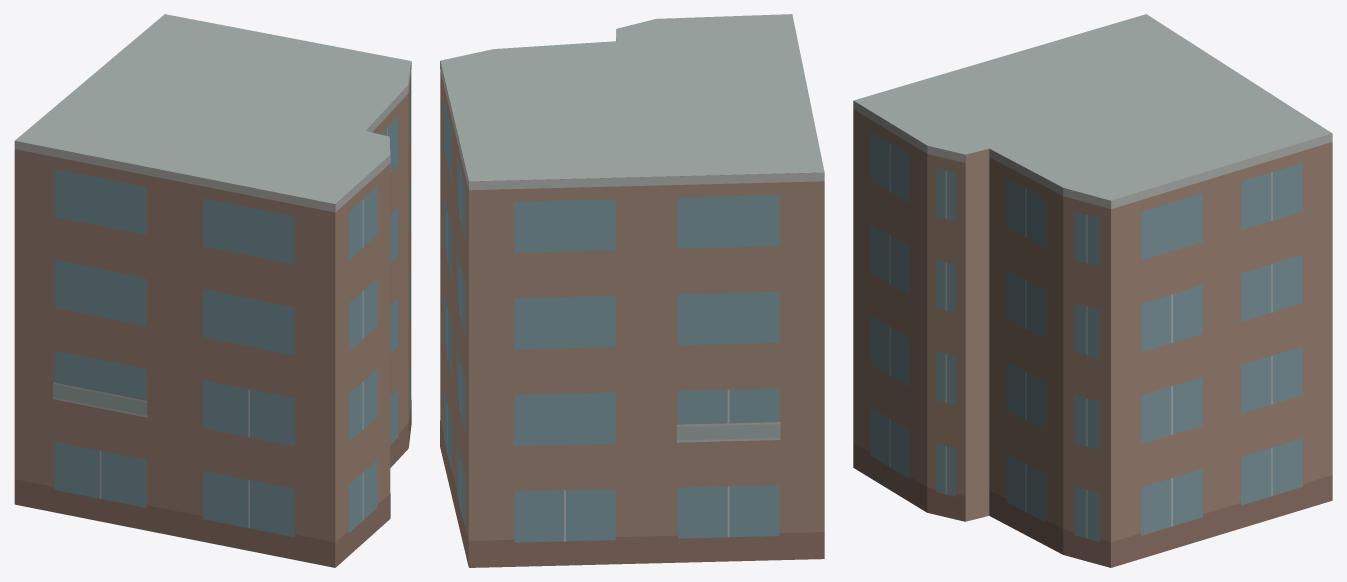
File: survey-upis-32912319.glb
The picture shows the model from 3 angles, left to right: view 1: azimuth 30°, elevation 25°; view 2: azimuth 150°, elevation 25°; view 3: azimuth 270°, elevation 25°; orthographic projection. The views are drawn at different scales.
Visible parts, largest first — view 1: survey-upis-32912319.tmp; view 2: survey-upis-32912319.tmp; view 3: survey-upis-32912319.tmp.
Part boxes in pixels (bbox=[...]): survey-upis-32912319.tmp: bbox=[14, 14, 411, 567]; survey-upis-32912319.tmp: bbox=[440, 14, 824, 567]; survey-upis-32912319.tmp: bbox=[853, 14, 1332, 567].
Bounding box in the file's own units: 11.63 × 10.65 × 12.61.
